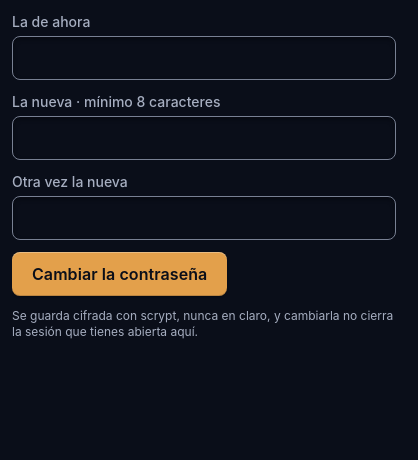
Test: al cambiarla, la sesión de aquí no se cae › si no se puede volver a entrar, lo dice en vez de fingir que todo va bien
Type "la-de-siempre" into the password field labelled "La de ahora".
click(204, 58); type("la-de-siempre")  # box x1=12 y1=36 x2=396 y2=80
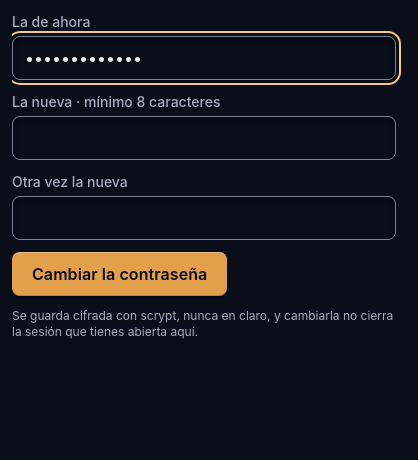
Type "una-nueva-larga" into the password field labelled "La nueva · mínimo 8 caracteres".
click(204, 138); type("una-nueva-larga")  # box x1=12 y1=116 x2=396 y2=160
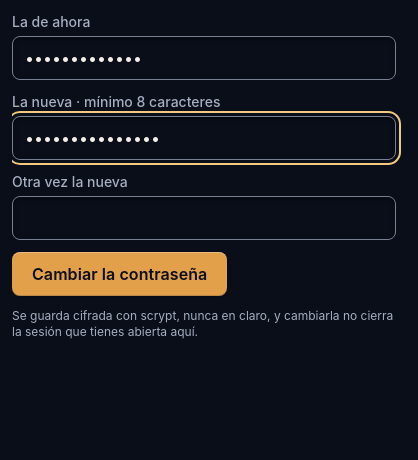
Type "una-nueva-larga" into the password field labelled "Otra vez la nueva".
click(204, 218); type("una-nueva-larga")  # box x1=12 y1=196 x2=396 y2=240
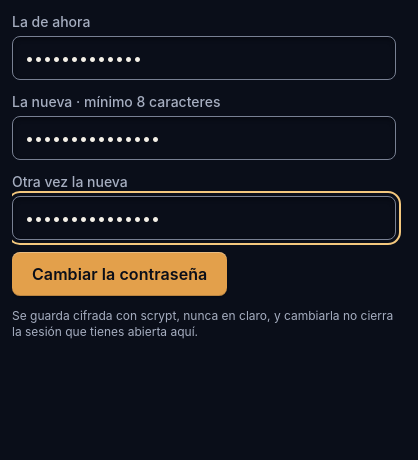
Click the button "Cambiar la contraseña".
click(120, 274)  # box x1=12 y1=252 x2=227 y2=296
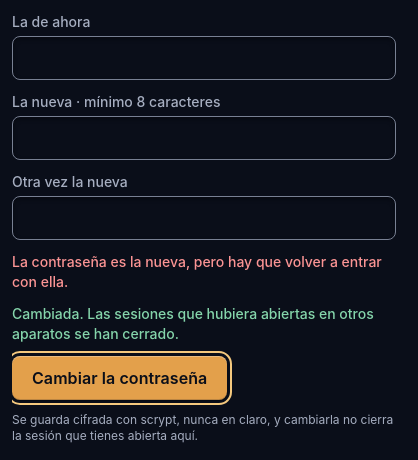
Now the text "hay que volver a entrar con ella" is shown, box x1=12 y1=253 x2=382 y2=290
